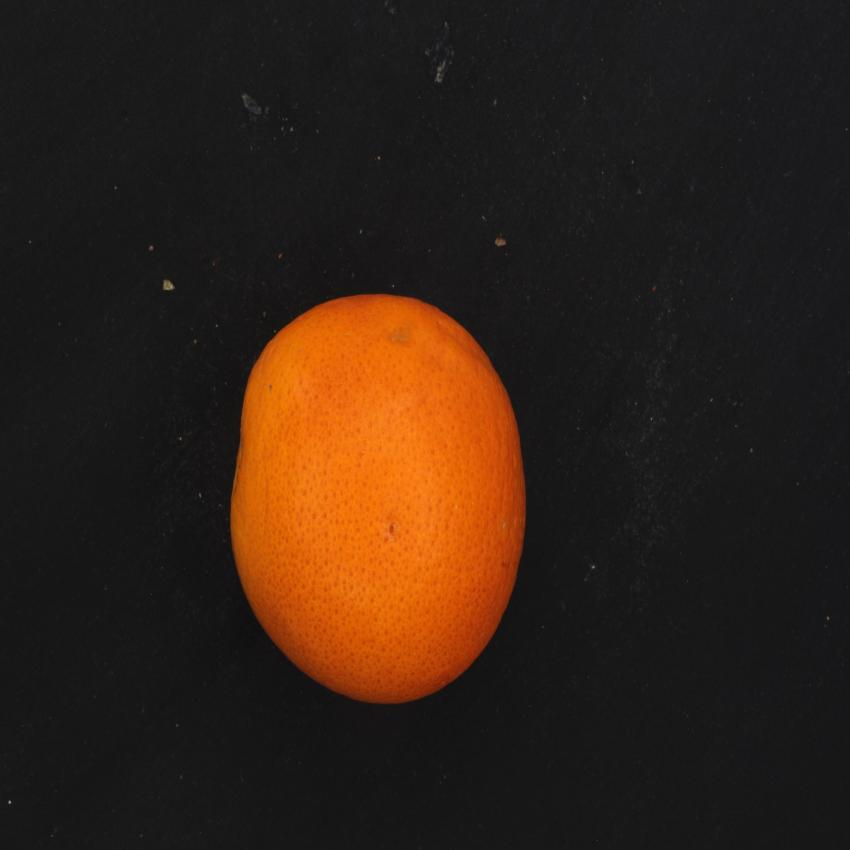Buen estado: (221, 288, 540, 717)
